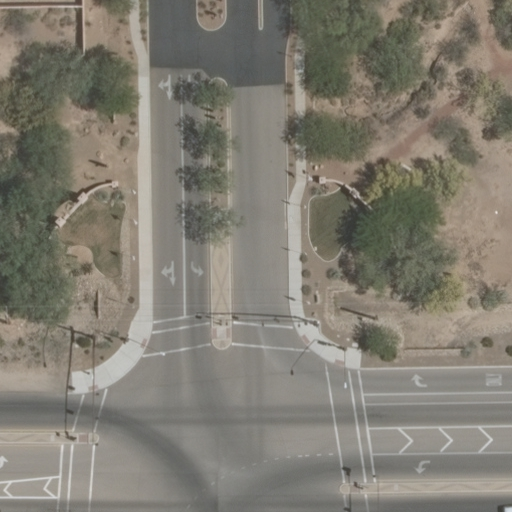DT: (2, 299, 15, 329)
